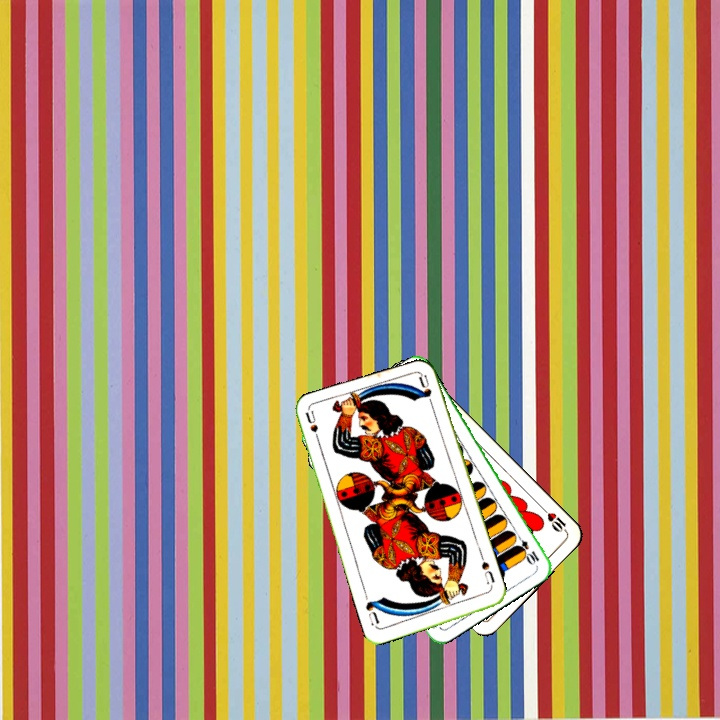E10: (511, 530, 542, 567)
H10: (539, 504, 571, 536)
SU: (301, 408, 323, 448), (477, 552, 497, 592)
